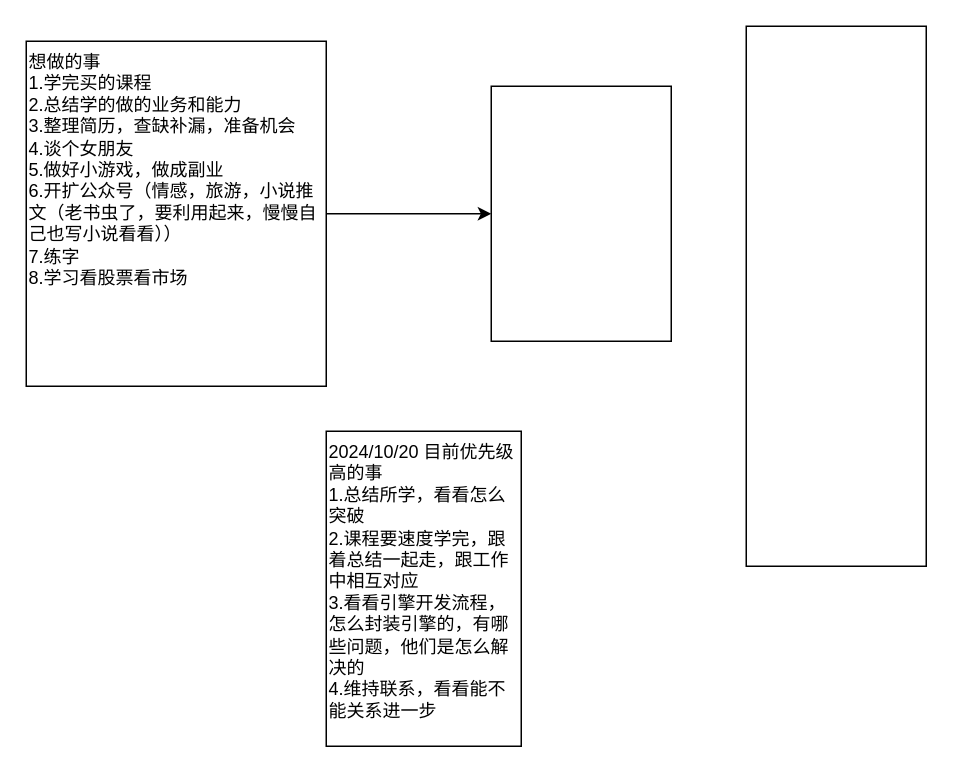
Some shapes in this 953 by 773 pixel diagram are drawn without their labels. Each missing label, with the box of its shape:
正在做的事 1.课程还有一半 2.女朋友正在追 3.在走小游戏流程 4.总结没有很到位，思考不够思路，把项目开发中遇到的问题都想一想，列一列: (490, 85, 671, 341)
目前的状态: (745, 25, 926, 566)
